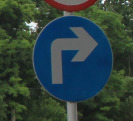right_turn: (31, 15, 114, 102)
